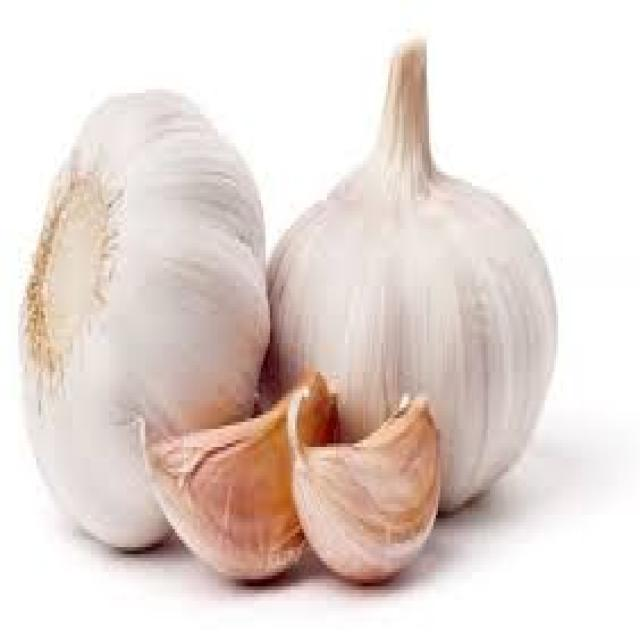Garlic: (253, 53, 577, 518), (7, 49, 274, 584), (125, 377, 338, 596), (274, 395, 451, 599)
